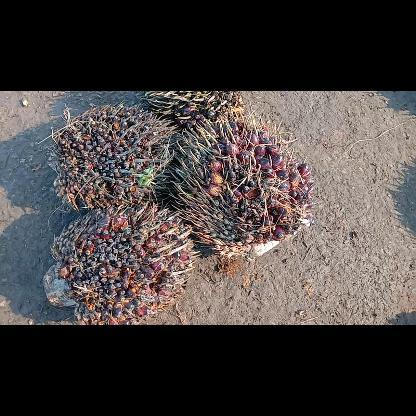TBS abnormal: (40, 198, 202, 324), (43, 102, 178, 212), (136, 92, 248, 132)
TBS masak: (165, 110, 317, 262)
